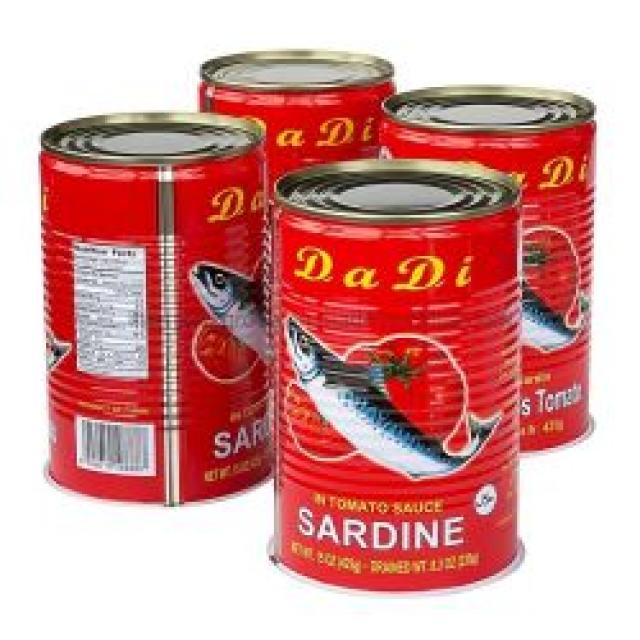Lata: (40, 50, 599, 604)
